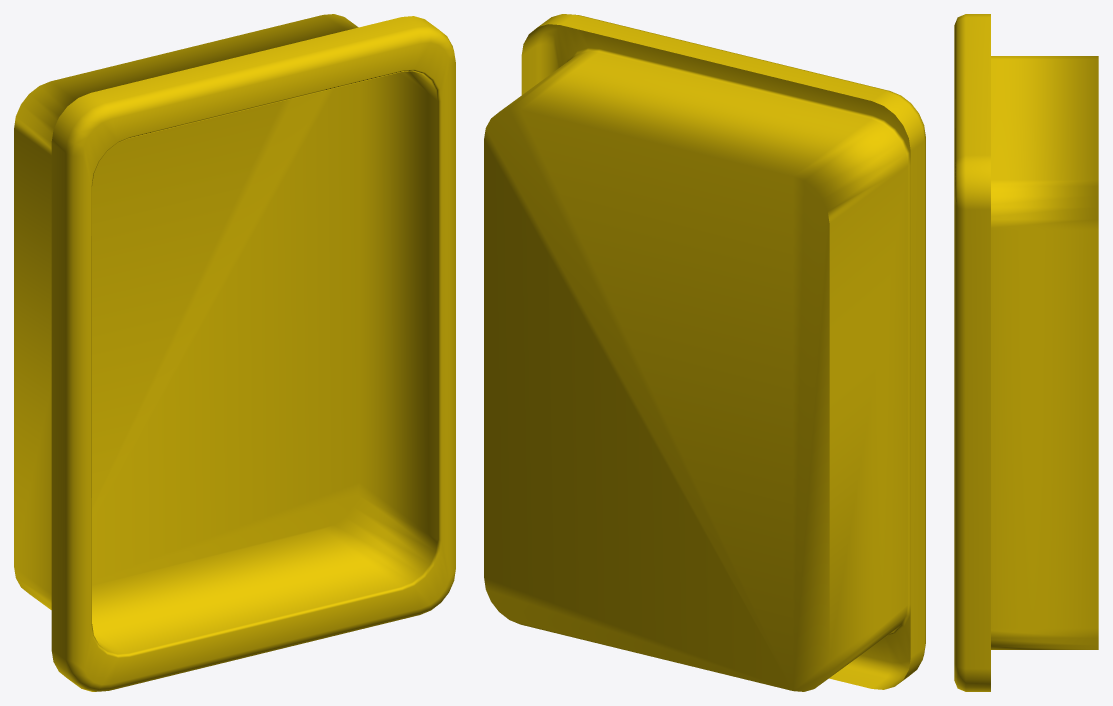
The model's file is Closet.fbx.
3 views of the same model, side by side, from view 1: azimuth 30°, elevation 25°; view 2: azimuth 150°, elevation 25°; view 3: azimuth 270°, elevation 25° (orthographic). The views are drawn at different scales.
Visible parts, largest first — view 1: Closet; view 2: Closet; view 3: Closet.
Part boxes in pixels (x1=…): Closet: x1=14, y1=14, x2=455, y2=691; Closet: x1=484, y1=14, x2=925, y2=691; Closet: x1=954, y1=14, x2=1098, y2=691.
Bounding box in the file's own units: 172 × 248 × 60.83.
